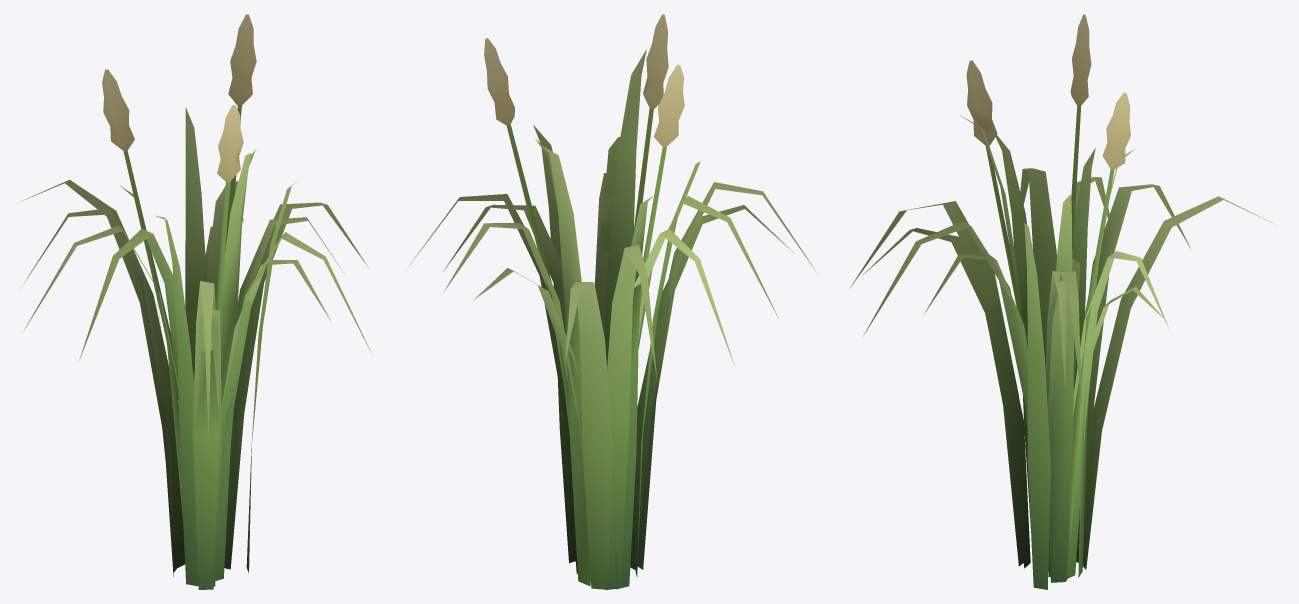
The model's file is deco-tallgrass-v3.glb.
The picture shows the model from 3 angles, left to right: view 1: azimuth 30°, elevation 25°; view 2: azimuth 150°, elevation 25°; view 3: azimuth 270°, elevation 25°; orthographic projection. The views are drawn at different scales.
Parts seen in each view (by area): view 1: 0_tallgrass; view 2: 0_tallgrass; view 3: 0_tallgrass.
Part boxes in pixels (x1,y1,x2,y2): 0_tallgrass: (21, 14, 372, 589); 0_tallgrass: (409, 14, 815, 589); 0_tallgrass: (849, 14, 1277, 589).
Bounding box in the file's own units: 0.816 × 1.21 × 0.9274.
